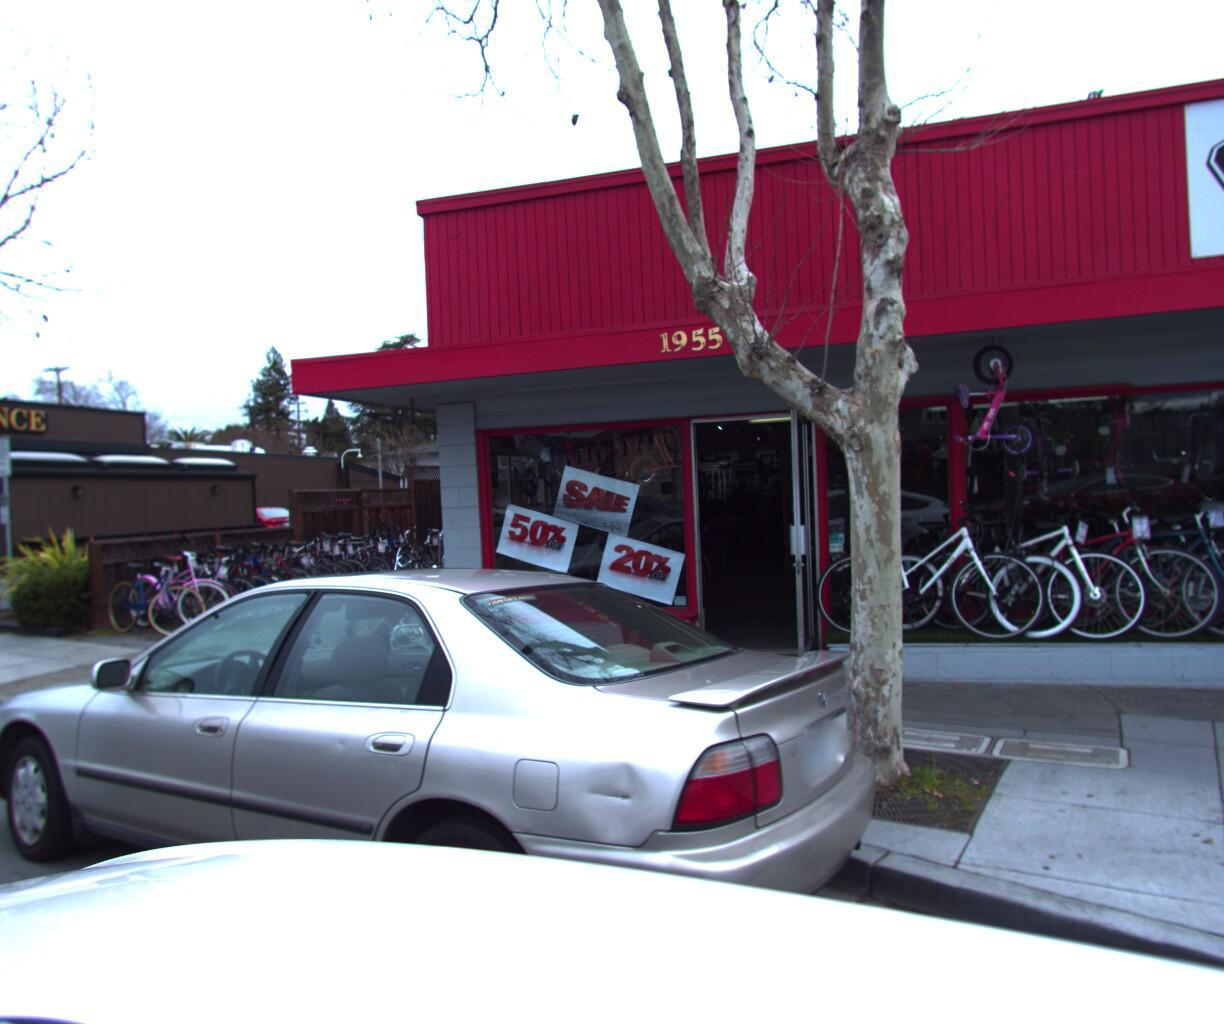bicycle: (863, 487, 1097, 646), (927, 492, 1173, 640), (958, 493, 1205, 631), (807, 492, 1032, 638), (1045, 482, 1224, 639), (1095, 490, 1224, 637), (358, 523, 495, 636), (386, 522, 507, 631), (1135, 488, 1224, 636), (401, 520, 527, 622), (342, 549, 482, 641), (944, 332, 1040, 464), (395, 521, 514, 626), (111, 531, 233, 633), (318, 562, 450, 649), (86, 547, 211, 638), (126, 538, 245, 630), (410, 536, 532, 616), (146, 543, 262, 626), (168, 540, 280, 622), (183, 538, 290, 619), (193, 536, 301, 616), (215, 536, 316, 612), (224, 534, 325, 609), (254, 527, 350, 604), (239, 534, 336, 606), (265, 527, 359, 598), (276, 528, 369, 597), (314, 517, 405, 588), (286, 528, 378, 595), (324, 517, 414, 586), (335, 517, 424, 584), (301, 526, 393, 590), (348, 516, 434, 582), (415, 517, 447, 583)
car: (0, 530, 928, 1024)
